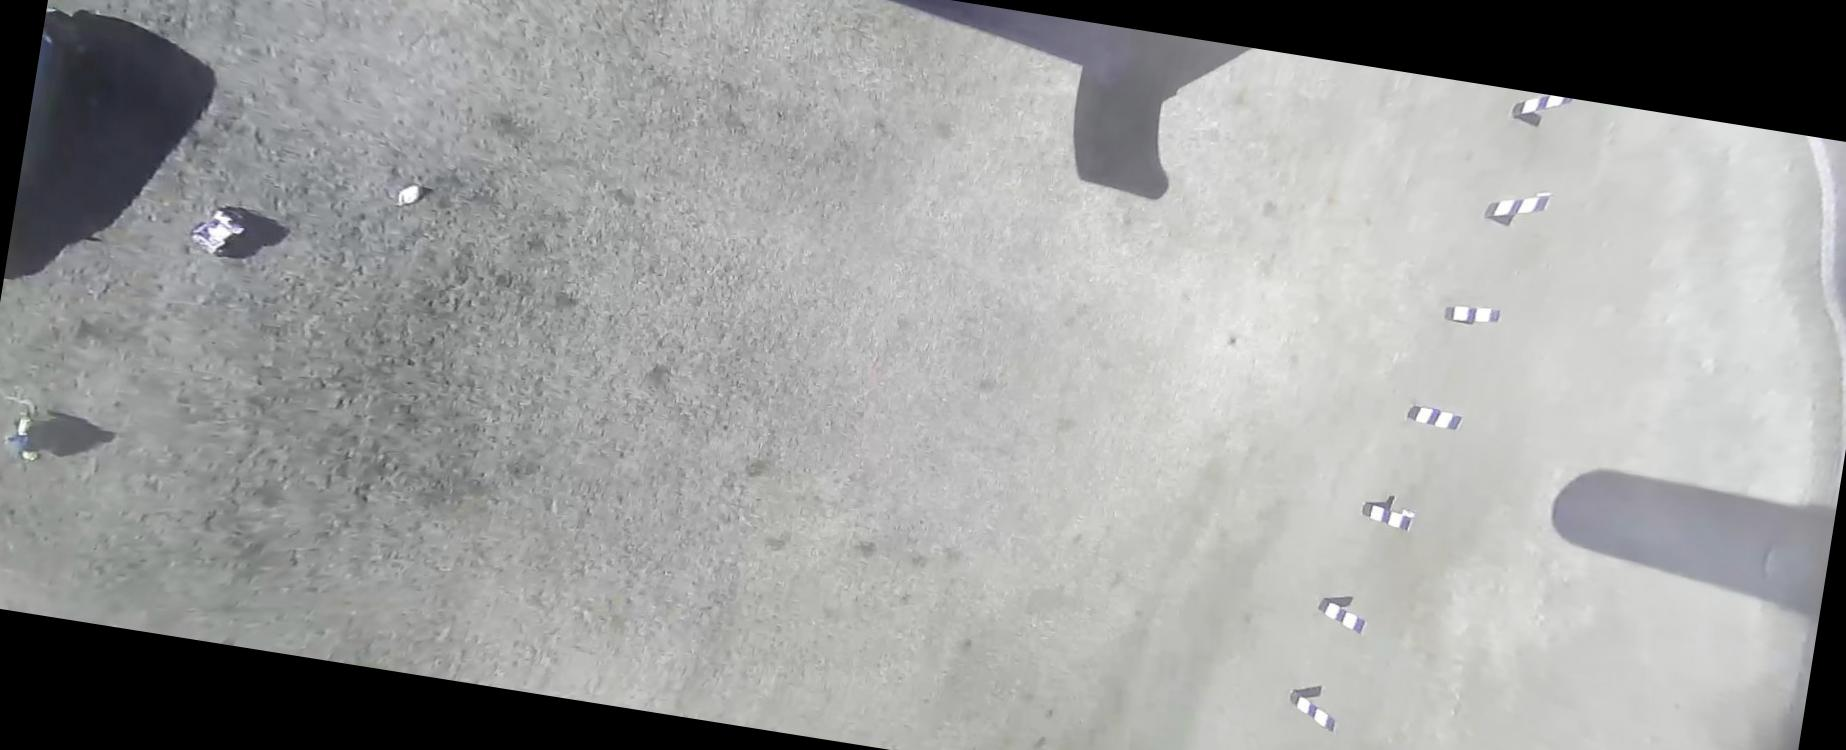vehicle: (16, 8, 104, 207), (188, 202, 253, 261)
